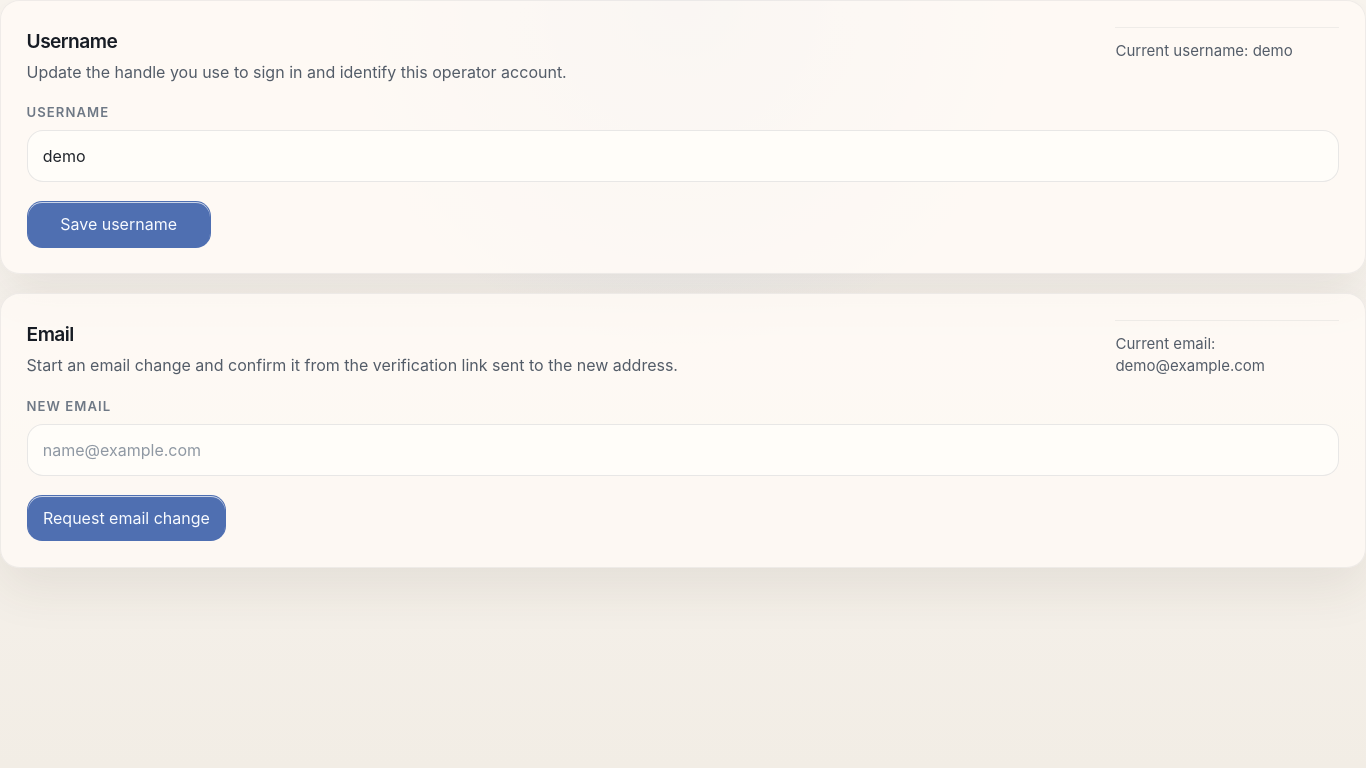
Test case: AccountSettingsSection › saves a trimmed username and refreshes the session
Type "  renamed-demo  " into the field labelled "Username" at (683,156), box [27,130,1339,182]
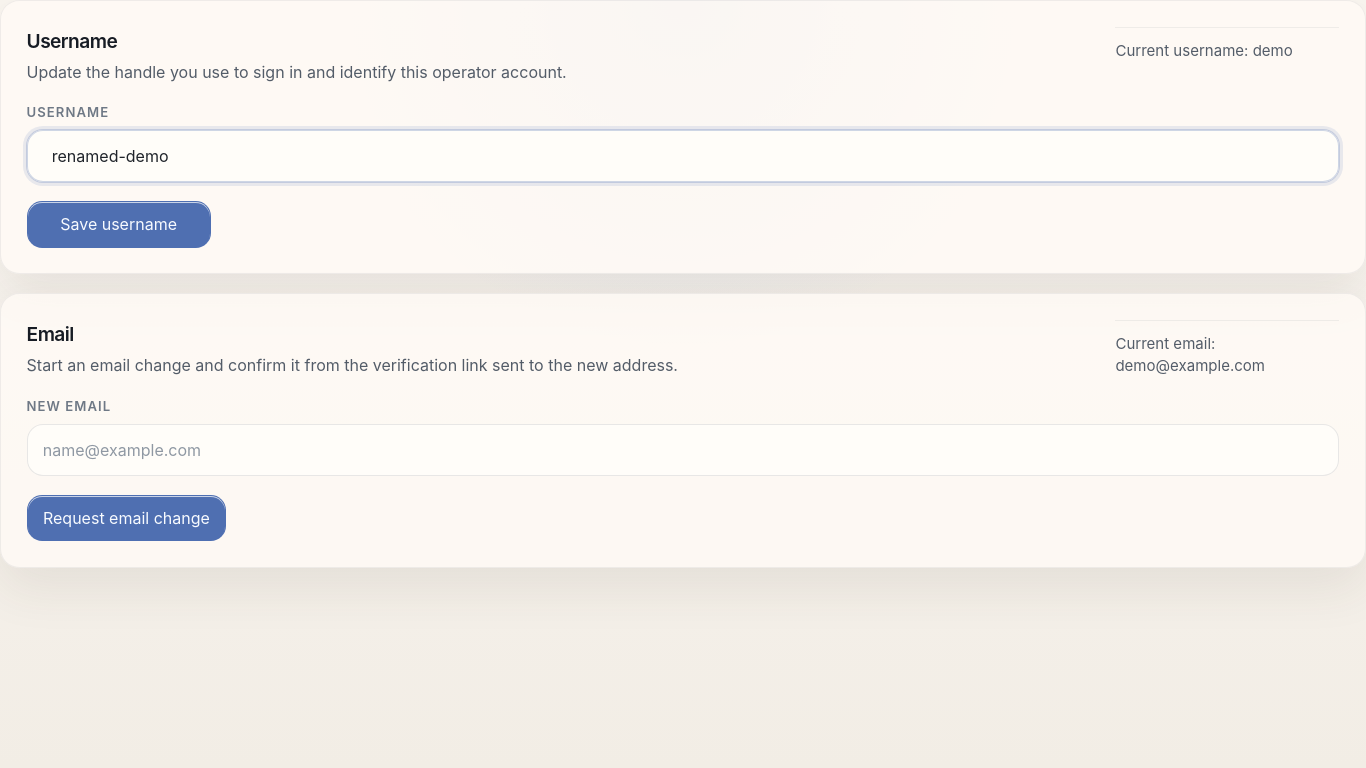
Click the button "Save username" at (119,224), box [27,201,211,248]
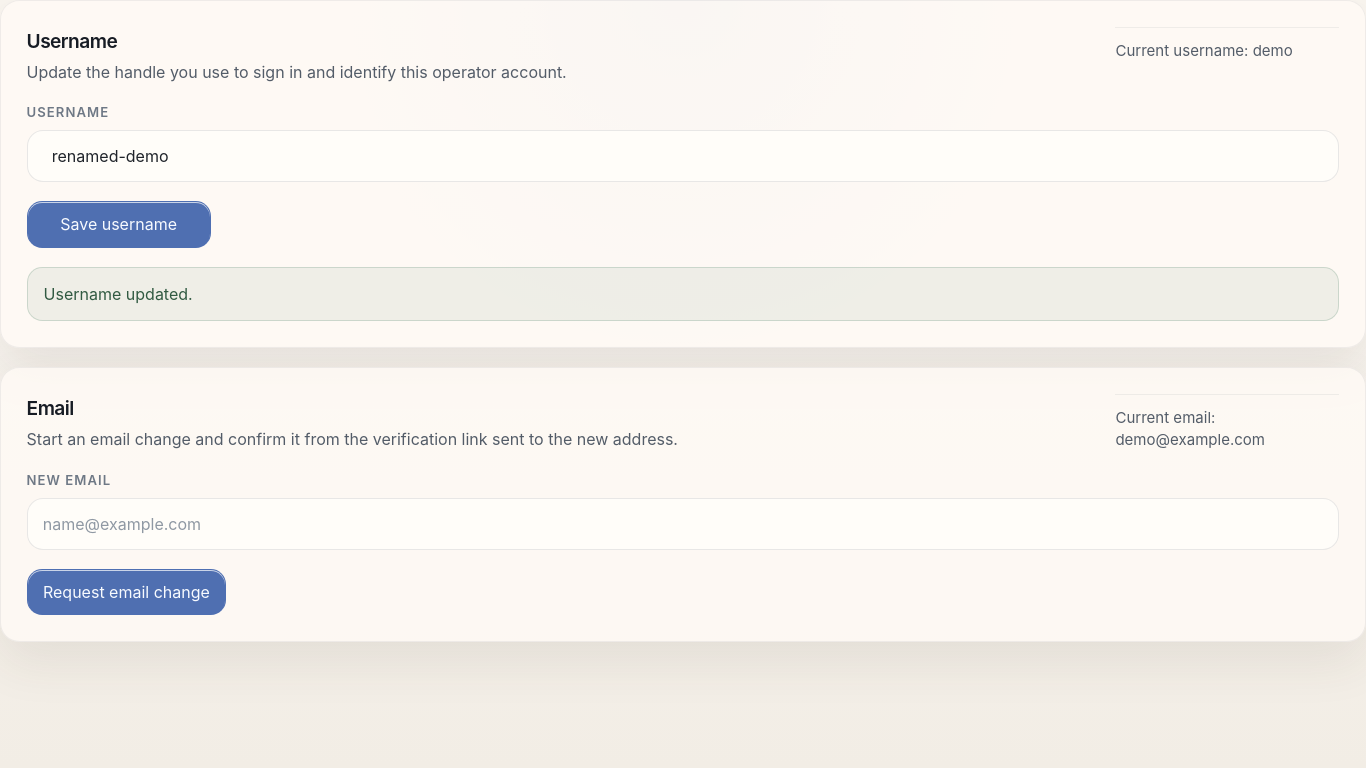
Expected: the text "Username updated." is shown, [27,267,1339,322]
